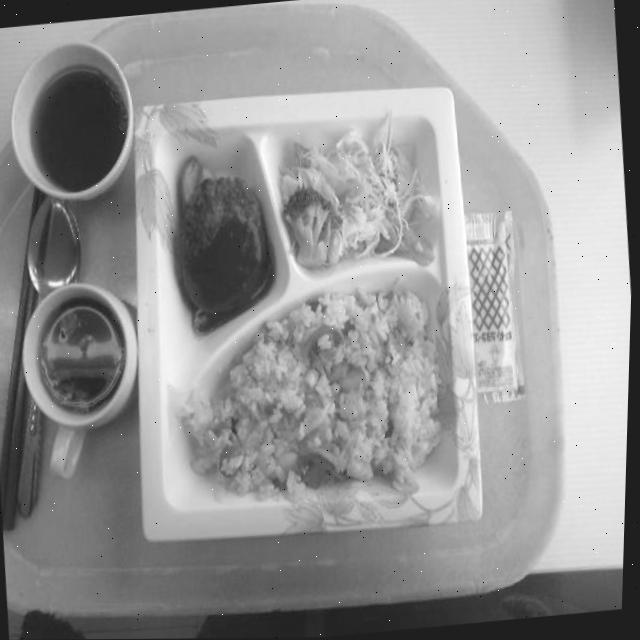米饭主食: (164, 267, 469, 519)
蔬菜料理: (270, 115, 448, 280)
